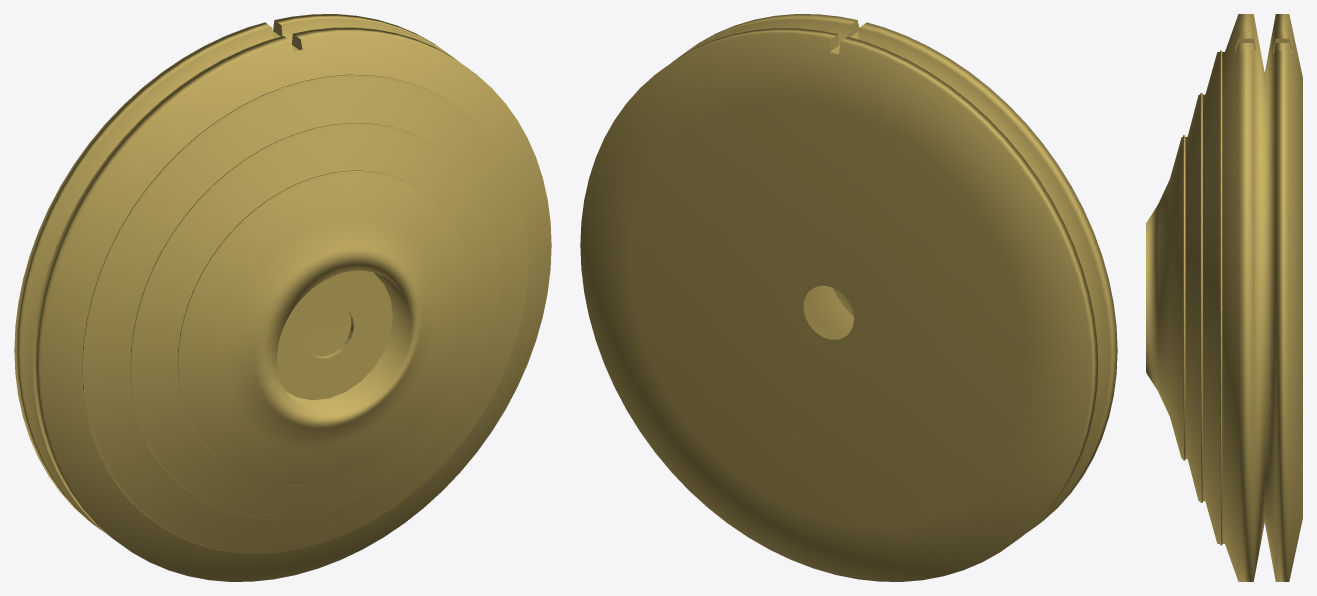
The model's file is crank-pulley.glb.
3 views of the same model, side by side, from view 1: azimuth 30°, elevation 25°; view 2: azimuth 150°, elevation 25°; view 3: azimuth 270°, elevation 25° (orthographic). The views are drawn at different scales.
Visible parts, largest first — view 1: crank-pulley:yellowZinc; view 2: crank-pulley:yellowZinc; view 3: crank-pulley:yellowZinc.
Boxes of the visible parts, x1,y1,x2,y2 form: crank-pulley:yellowZinc: (14, 14, 551, 581); crank-pulley:yellowZinc: (580, 14, 1117, 581); crank-pulley:yellowZinc: (1146, 14, 1302, 581).
Bounding box in the file's own units: 134 × 134 × 37.01.
